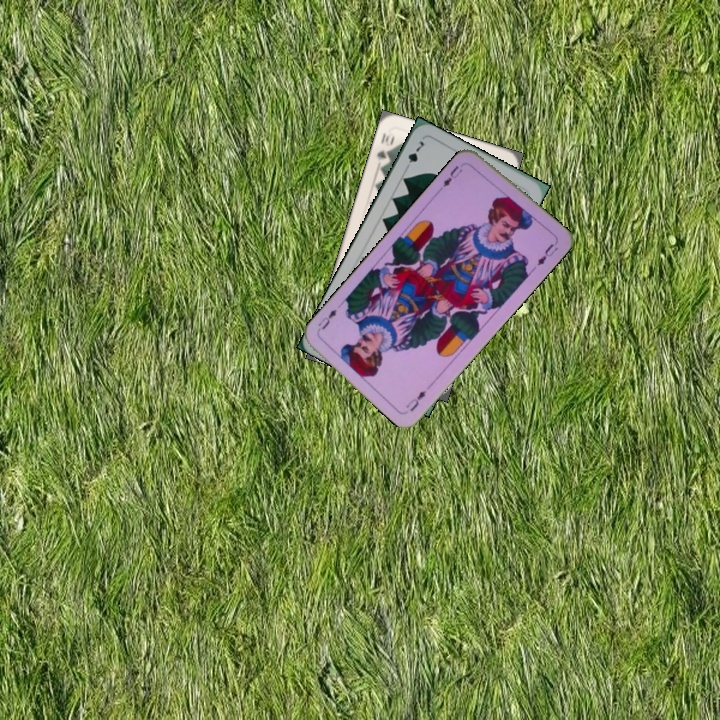EU: (436, 159, 468, 192), (402, 386, 429, 414)
G10: (373, 128, 397, 161)
G7: (400, 137, 427, 173)
